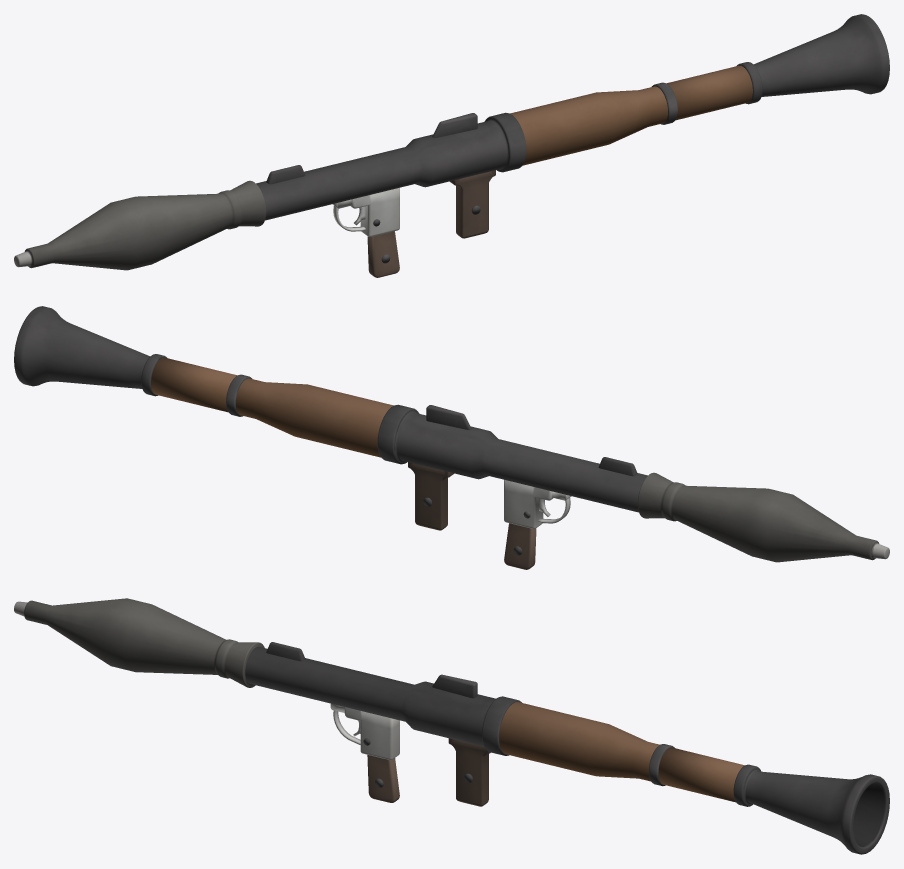
File: rocketlauncher.fbx
3 views of the same model, one above another, from view 1: azimuth 30°, elevation 25°; view 2: azimuth 150°, elevation 25°; view 3: azimuth 330°, elevation 25° (orthographic).
Parts seen in each view (by area): view 1: rpg, rocket; view 2: rpg, rocket; view 3: rpg, rocket.
Boxes of the visible parts, x1,y1,x2,y2 form: rpg: (256,14,889,277); rocket: (14,180,266,270); rpg: (14,306,647,569); rocket: (637,472,889,562); rpg: (245,642,889,854); rocket: (14,598,264,687).
Size of the model in its own units: 82.82 by 12.88 by 6.78.
Materials: 1 (1 with a texture image).
